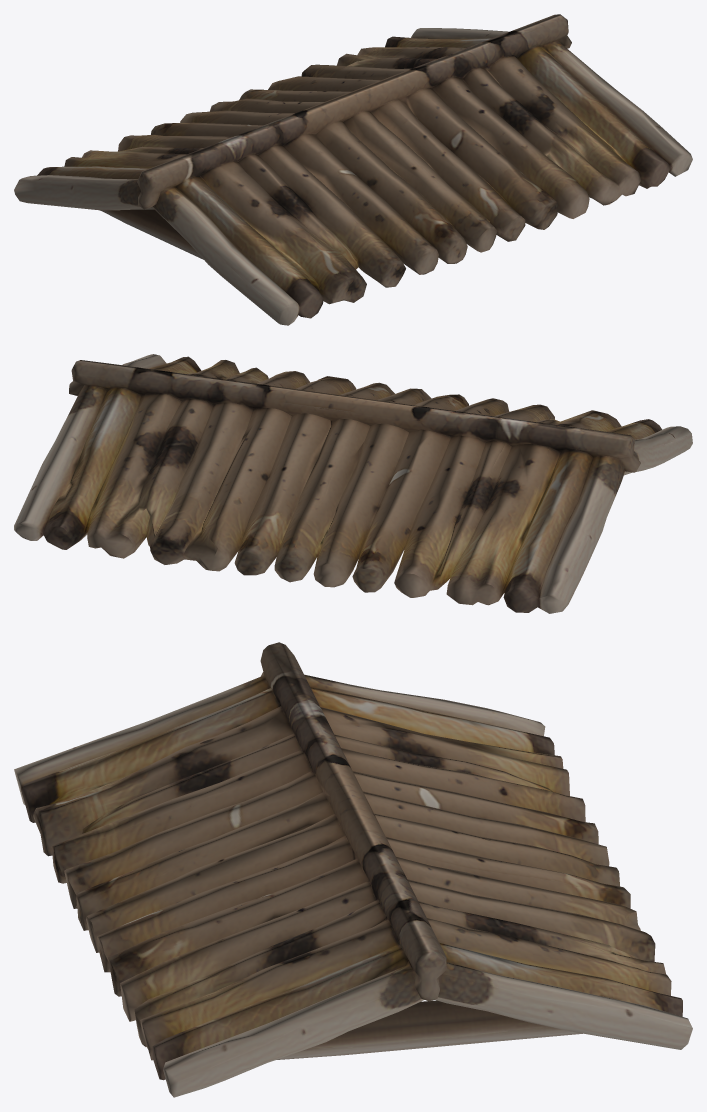
The model's file is roof.obj.
The picture shows the model from 3 angles, top to bottom: view 1: azimuth 30°, elevation 25°; view 2: azimuth 150°, elevation 25°; view 3: azimuth 270°, elevation 25°; orthographic projection. The views are drawn at different scales.
Visible parts, largest first — view 1: Roofgeom1; view 2: Roofgeom1; view 3: Roofgeom1.
Boxes of the visible parts, x1,y1,x2,y2 form: Roofgeom1: (14, 14, 692, 325); Roofgeom1: (14, 354, 692, 613); Roofgeom1: (14, 642, 692, 1097).
Bounding box in the file's own units: 16.89 × 2.89 × 13.6.
1 material, 1 textured.
